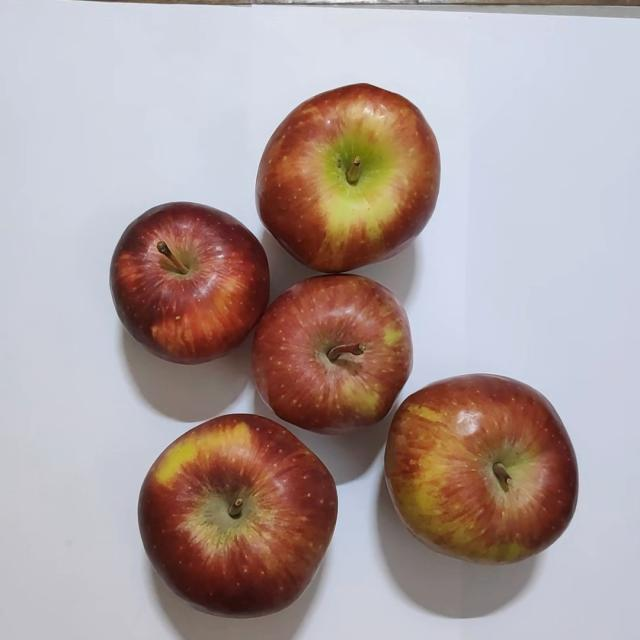apple: (125, 408, 344, 628), (378, 360, 585, 580), (249, 83, 452, 282), (248, 271, 418, 437), (108, 201, 269, 368)
